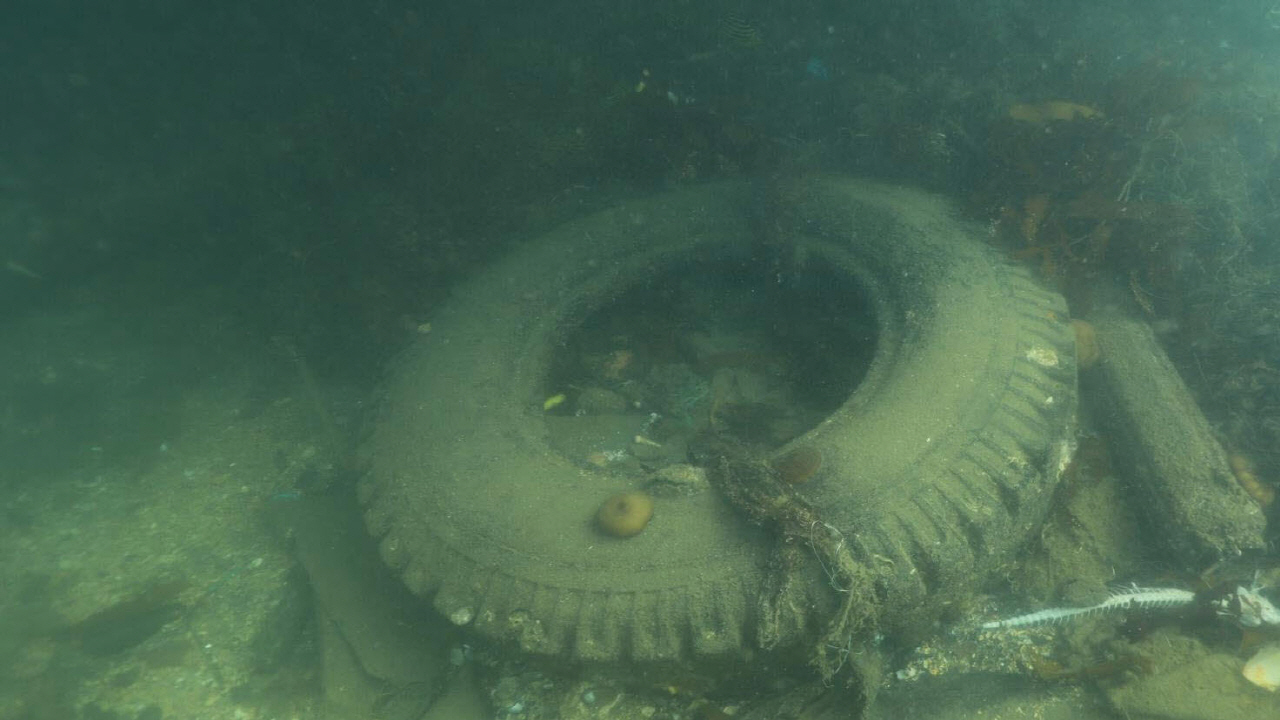eel fish trap: (1074, 278, 1270, 595)
tire: (351, 175, 1074, 697)
